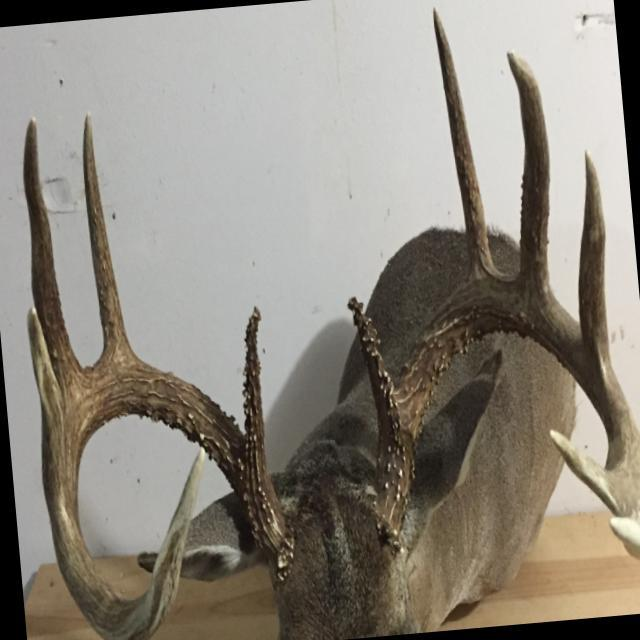L-F: (372, 279, 640, 557)
L-G1: (346, 296, 403, 456)
L-G2: (433, 7, 500, 286)
L-G3: (505, 49, 554, 306)
L-G4: (577, 148, 618, 380)
R-F: (42, 361, 294, 640)
R-G1: (241, 304, 267, 484)
R-G2: (81, 108, 139, 361)
R-G3: (21, 113, 89, 400)
